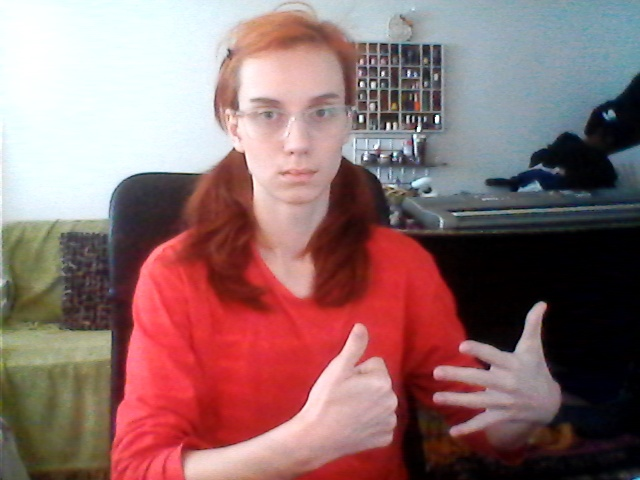sest: (318, 297, 562, 450)
